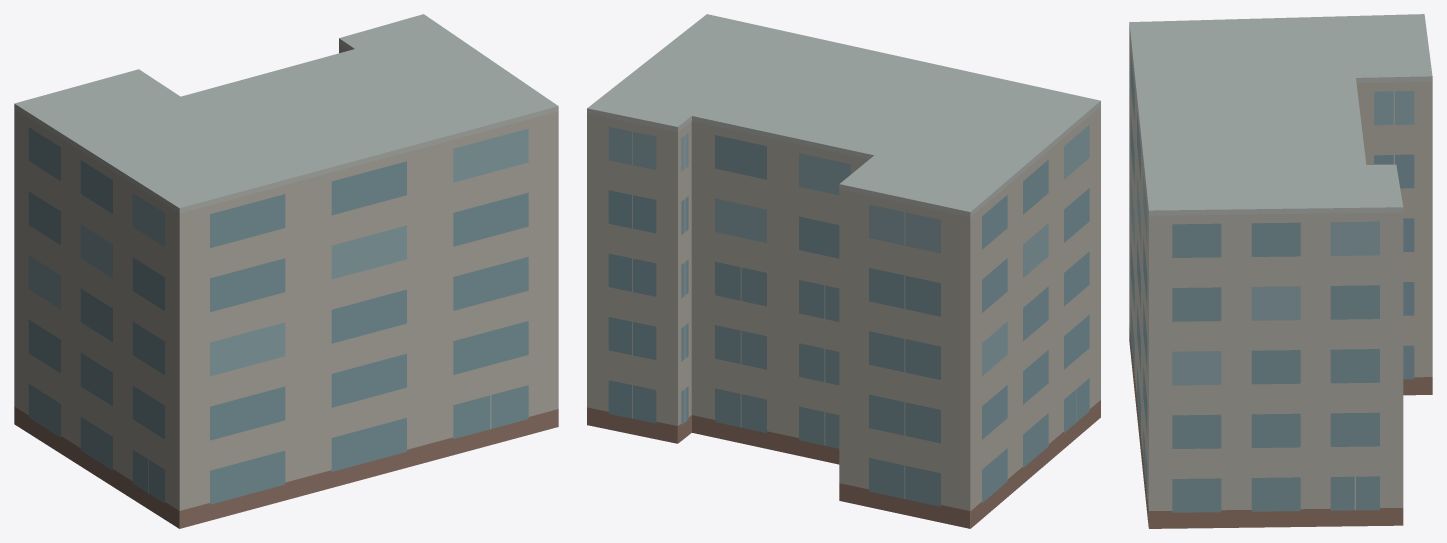
File: survey-upis-32955234.glb
3 renders of one model, left to right at view 1: azimuth 30°, elevation 25°; view 2: azimuth 150°, elevation 25°; view 3: azimuth 270°, elevation 25°, orthographic.
Visible parts, largest first — view 1: survey-upis-32955234.tmp; view 2: survey-upis-32955234.tmp; view 3: survey-upis-32955234.tmp.
Part boxes in pixels (left/top/right/bottom): survey-upis-32955234.tmp: left=14, top=14, right=558, bottom=528; survey-upis-32955234.tmp: left=587, top=14, right=1100, bottom=528; survey-upis-32955234.tmp: left=1129, top=14, right=1432, bottom=528.
Size of the model in its own units: 19.47 by 14.7 by 12.7.
